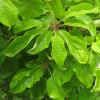Apple leaf: (3, 27, 45, 59), (56, 30, 90, 65), (9, 64, 45, 96), (71, 55, 99, 90), (62, 1, 99, 23), (0, 0, 22, 28), (43, 0, 65, 28), (49, 35, 67, 69), (46, 75, 68, 99), (9, 19, 45, 33)
